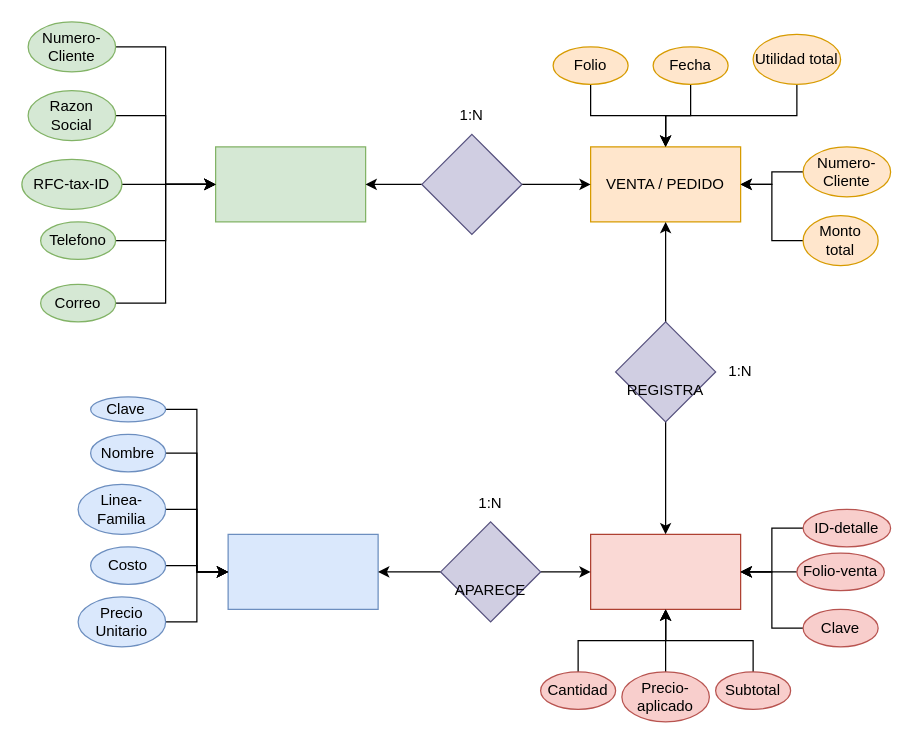
Some shapes in this 913 by 744 pixel diagram are drawn without their labels. The box of each missing label's shape, as (x1, y1, x2, y2) in pixels:
CLIENTE: (214, 146, 366, 222)
DETALLE DE VENTA: (589, 533, 741, 609)
PRODUCTO: (227, 533, 378, 609)
REALIZA: (421, 133, 522, 234)
